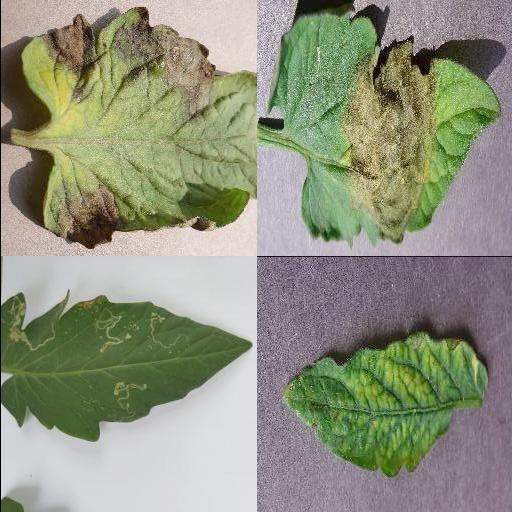Late Blight: (18, 6, 256, 251), (262, 7, 504, 247)
Leaf Miner: (0, 291, 252, 443)
Mosaic Virus: (280, 332, 490, 476)
